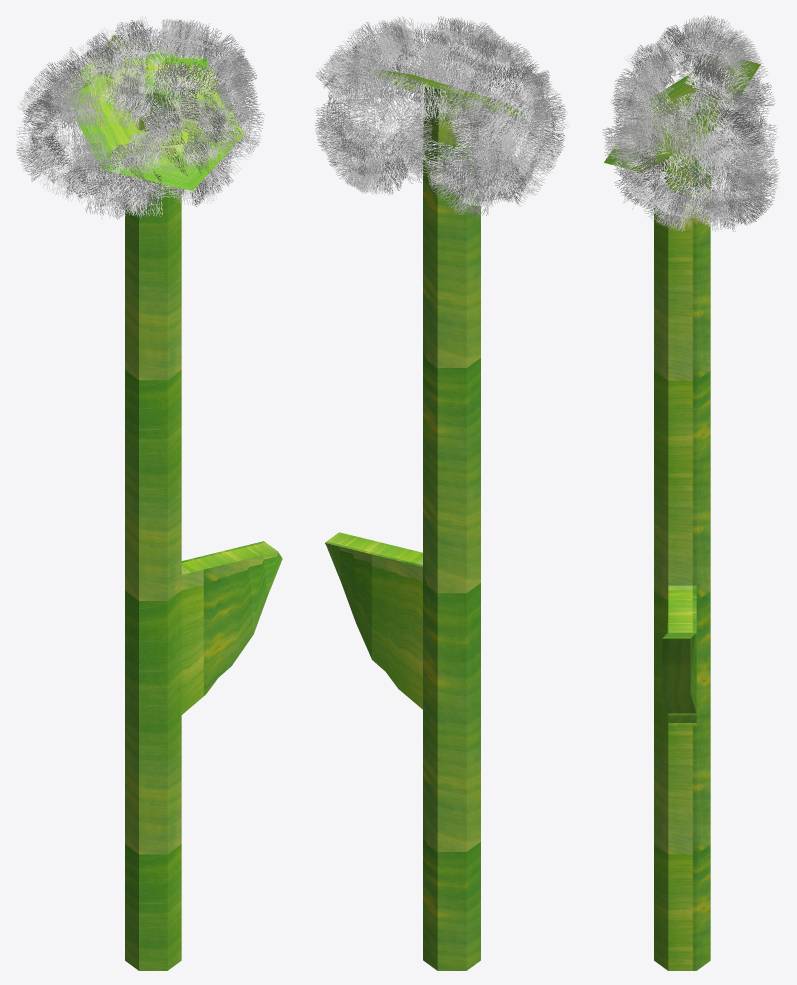
File: flor.fbx
3 renders of one model, left to right at view 1: azimuth 30°, elevation 25°; view 2: azimuth 150°, elevation 25°; view 3: azimuth 270°, elevation 25°, orthographic. The views are drawn at different scales.
Parts seen in each view (by area): view 1: Circle, Plane.002; view 2: Circle, Plane.002; view 3: Circle, Plane.002.
Part boxes in pixels (box(x1,y1,x2,y2)): Circle: box(64, 35, 282, 970); Plane.002: box(16, 16, 264, 219); Circle: box(325, 67, 528, 970); Plane.002: box(314, 16, 569, 218); Circle: box(604, 57, 760, 970); Plane.002: box(602, 15, 780, 231).
Size of the model in its own units: 372 by 1397 by 248.
Materials: 2 (2 with a texture image).
